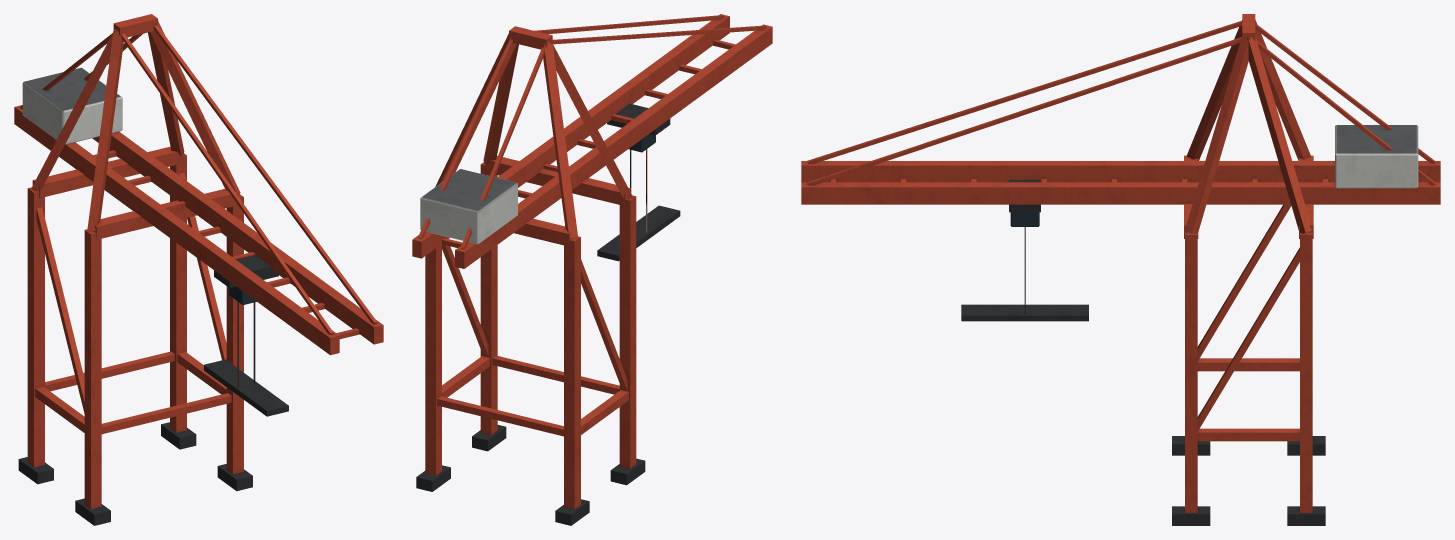
Rendered from gantry-crane.fbx.
3 renders of one model, left to right at view 1: azimuth 30°, elevation 25°; view 2: azimuth 150°, elevation 25°; view 3: azimuth 270°, elevation 25°, orthographic. The views are drawn at different scales.
Visible parts, largest first — view 1: gantry-crane; view 2: gantry-crane; view 3: gantry-crane.
Boxes of the visible parts, x1,y1,x2,y2 form: gantry-crane: [14, 14, 383, 525]; gantry-crane: [412, 14, 772, 525]; gantry-crane: [801, 14, 1440, 525].
Bounding box in the file's own units: 1624 × 4480 × 5600.
Materials: 1 (1 with a texture image).
